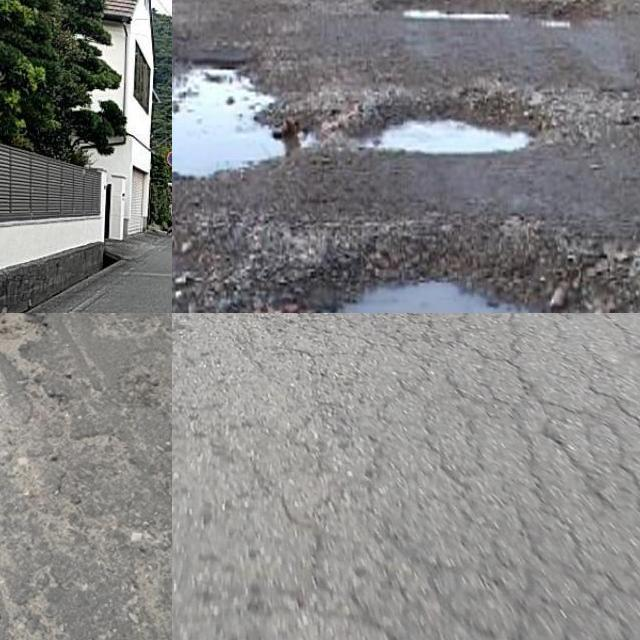Lubang: (291, 241, 608, 313), (172, 63, 293, 169), (350, 96, 548, 154)
Retak Buaya: (302, 313, 640, 640)
